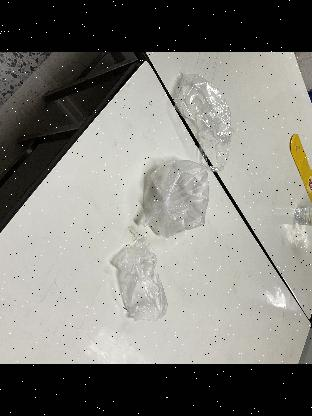Others: (169, 64, 247, 174), (132, 154, 214, 246), (110, 225, 170, 327)
